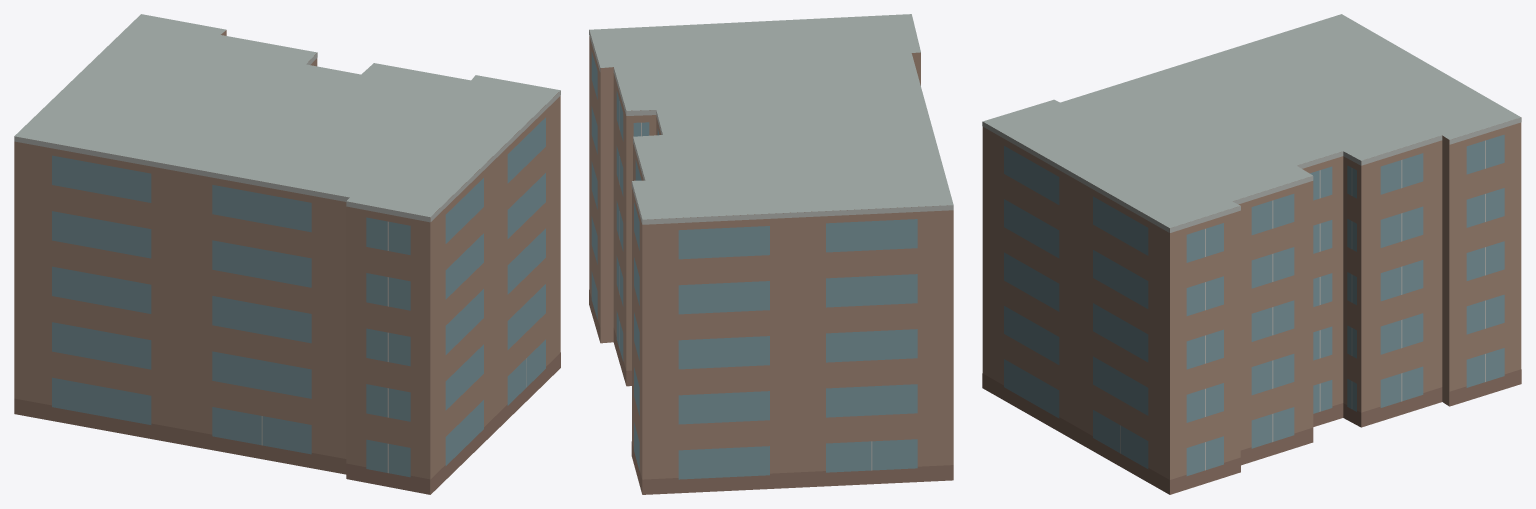
The model's file is survey-upis-32958886.glb.
The picture shows the model from 3 angles, left to right: view 1: azimuth 30°, elevation 25°; view 2: azimuth 150°, elevation 25°; view 3: azimuth 270°, elevation 25°; orthographic projection. The views are drawn at different scales.
Visible parts, largest first — view 1: survey-upis-32958886.tmp; view 2: survey-upis-32958886.tmp; view 3: survey-upis-32958886.tmp.
Part boxes in pixels (x1,y1,x2,y2): survey-upis-32958886.tmp: (14, 14, 560, 494); survey-upis-32958886.tmp: (589, 14, 953, 494); survey-upis-32958886.tmp: (982, 14, 1521, 494).
Bounding box in the file's own units: 22.58 × 13.1 × 24.
